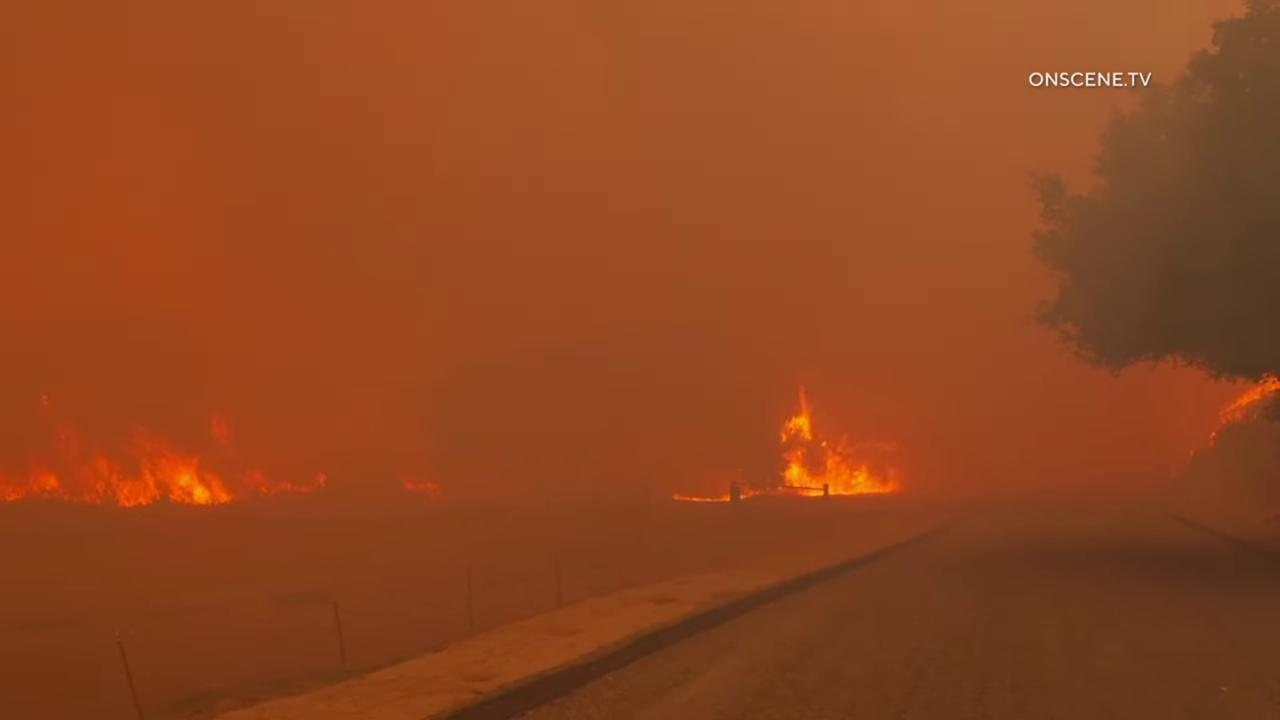fire: (0, 395, 343, 511), (670, 382, 912, 504), (1202, 371, 1280, 446), (400, 474, 448, 509)
smoke: (0, 0, 1280, 720)
